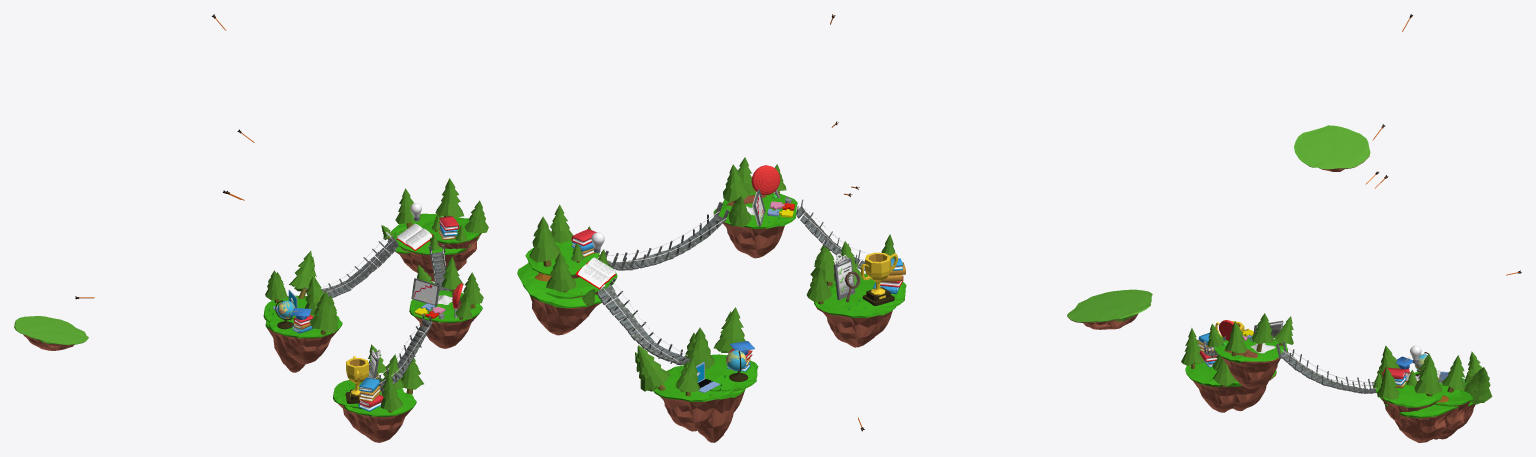
File: islas.glb
3 renders of one model, left to right at view 1: azimuth 30°, elevation 25°; view 2: azimuth 150°, elevation 25°; view 3: azimuth 270°, elevation 25°, orthographic. The views are drawn at different scales.
Parts seen in each view (by area): view 1: SM_FloatingIslandA2, SM_FloatingIslandA4, SM_FloatingIslandA7, SM_FloatingIslandA10, SM_FloatingIslandA, CUERDA_01, CUERDA_3, SM_Tree_11, SM_Tree_10, SM_Tree_24, polySurface11.009, trofeo_anim (+5 smaller); view 2: SM_FloatingIslandA2, SM_FloatingIslandA4, SM_FloatingIslandA7, SM_FloatingIslandA10, SM_FloatingIslandA, CUERDA_01, CUERDA_7, SM_Tree_10, SM_Tree_24, isla_04_bitacora_anim, CUERDA_3, trofeo_anim (+4 smaller); view 3: SM_FloatingIslandA4, SM_FloatingIslandA10, SM_FloatingIslandA7, SM_FloatingIslandA, CUERDA_7, SM_Tree_10, SM_Tree_24, SM_Tree_26, SM_Tree_25, SM_Tree_17, SM_Tree_8, SM_Tree_23 (+1 smaller).
Part boxes in pixels (<box>): SM_FloatingIslandA2: <box>263,295,342,372</box>; SM_FloatingIslandA4: <box>391,213,481,281</box>; SM_FloatingIslandA7: <box>333,378,416,442</box>; SM_FloatingIslandA10: <box>14,316,88,350</box>; SM_FloatingIslandA: <box>409,290,482,348</box>; CUERDA_01: <box>304,231,398,297</box>; CUERDA_3: <box>374,313,432,393</box>; SM_Tree_11: <box>309,291,338,334</box>; SM_Tree_10: <box>289,251,316,298</box>; SM_Tree_24: <box>435,178,463,217</box>; polySurface11.009: <box>397,223,432,249</box>; trofeo_anim: <box>346,356,368,395</box>; SM_FloatingIslandA2: <box>653,354,758,442</box>; SM_FloatingIslandA4: <box>517,241,617,335</box>; SM_FloatingIslandA7: <box>814,273,906,347</box>; SM_FloatingIslandA10: <box>1067,289,1152,329</box>; SM_FloatingIslandA: <box>713,192,797,258</box>; CUERDA_01: <box>597,278,691,365</box>; CUERDA_7: <box>605,202,729,270</box>; SM_Tree_10: <box>635,345,670,391</box>; SM_Tree_24: <box>529,216,560,266</box>; isla_04_bitacora_anim: <box>833,253,860,302</box>; CUERDA_3: <box>796,199,870,270</box>; trofeo_anim: <box>861,252,897,295</box>; SM_FloatingIslandA4: <box>1375,381,1473,442</box>; SM_FloatingIslandA10: <box>1294,125,1370,171</box>; SM_FloatingIslandA7: <box>1185,362,1276,412</box>; SM_FloatingIslandA: <box>1214,335,1287,389</box>; CUERDA_7: <box>1276,341,1376,393</box>; SM_Tree_10: <box>1464,367,1492,404</box>; SM_Tree_24: <box>1414,356,1442,396</box>; SM_Tree_26: <box>1442,355,1465,392</box>; SM_Tree_25: <box>1181,328,1204,365</box>; SM_Tree_17: <box>1377,367,1399,401</box>; SM_Tree_8: <box>1225,321,1246,356</box>; SM_Tree_23: <box>1251,313,1274,344</box>.
Bounding box in the file's own units: 58.76 × 43.55 × 35.35.
58 materials, 6 textured.
